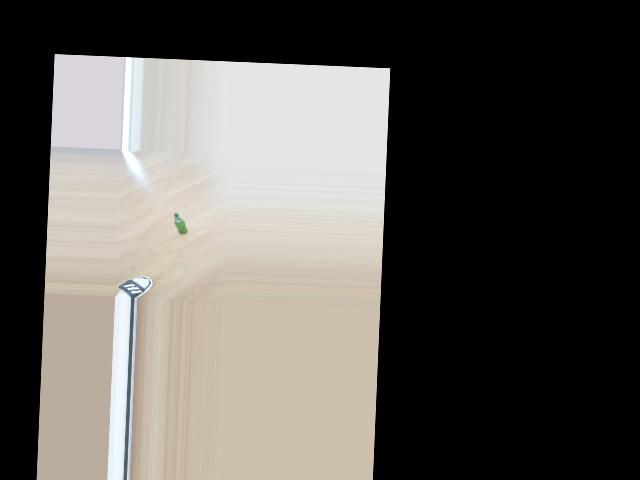beer: (172, 213, 187, 234)
